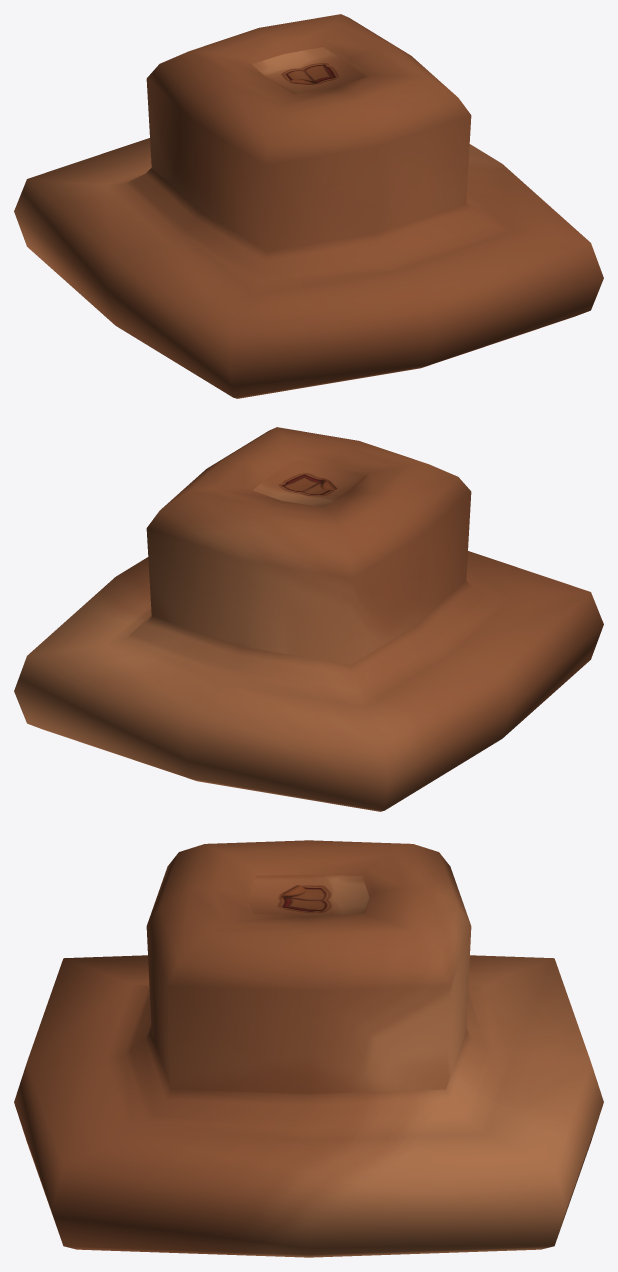
Rendered from BigStamp.fbx.
3 renders of one model, top to bottom at view 1: azimuth 30°, elevation 25°; view 2: azimuth 150°, elevation 25°; view 3: azimuth 270°, elevation 25°, orthographic. The views are drawn at different scales.
Visible parts, largest first — view 1: Cube; view 2: Cube; view 3: Cube.
Boxes of the visible parts, bbox=[...] form: Cube: bbox=[14, 14, 603, 398]; Cube: bbox=[14, 427, 603, 811]; Cube: bbox=[14, 840, 603, 1257].
Bounding box in the file's own units: 78.79 × 41.25 × 83.65.
1 material, 1 textured.
